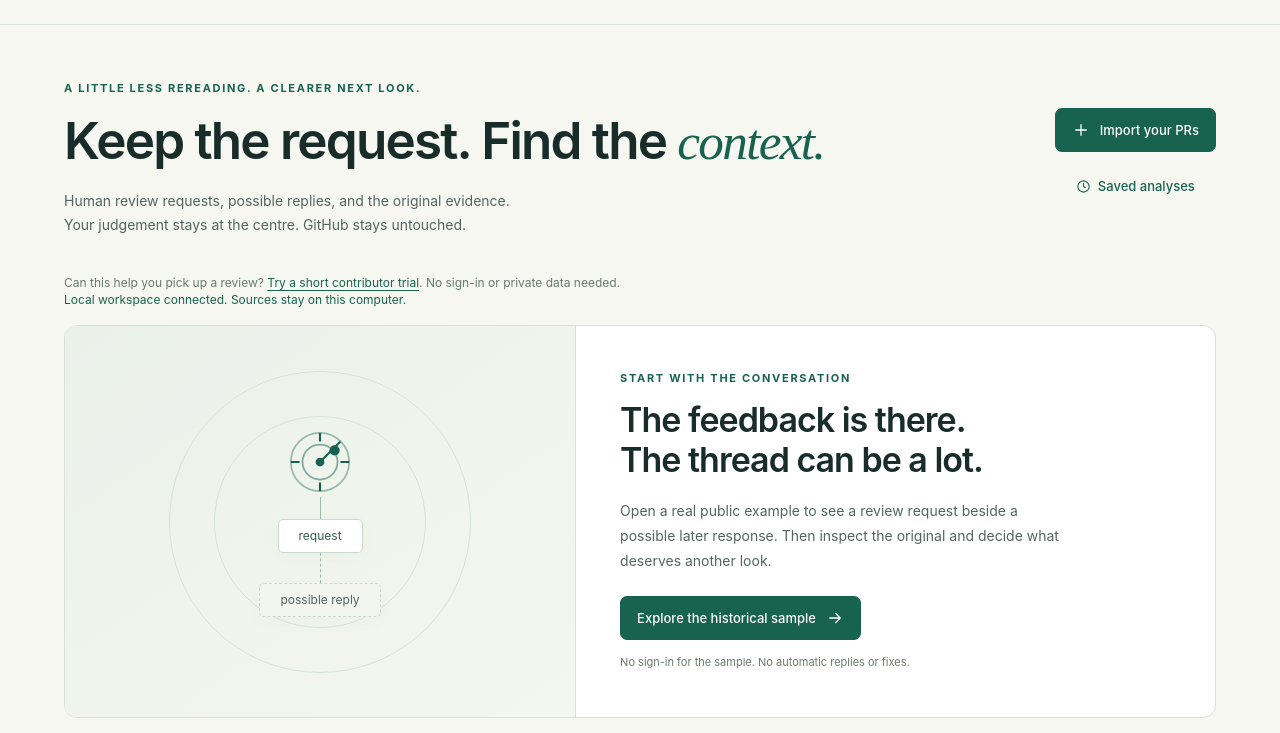
it: evidence workbench integration (DOM simulation, not a visual browser audit) › retains typed notes and shows an honest save failure
Click the button "Explore the historical sample": (740, 618) [620,596,861,640]
(page scrolled)
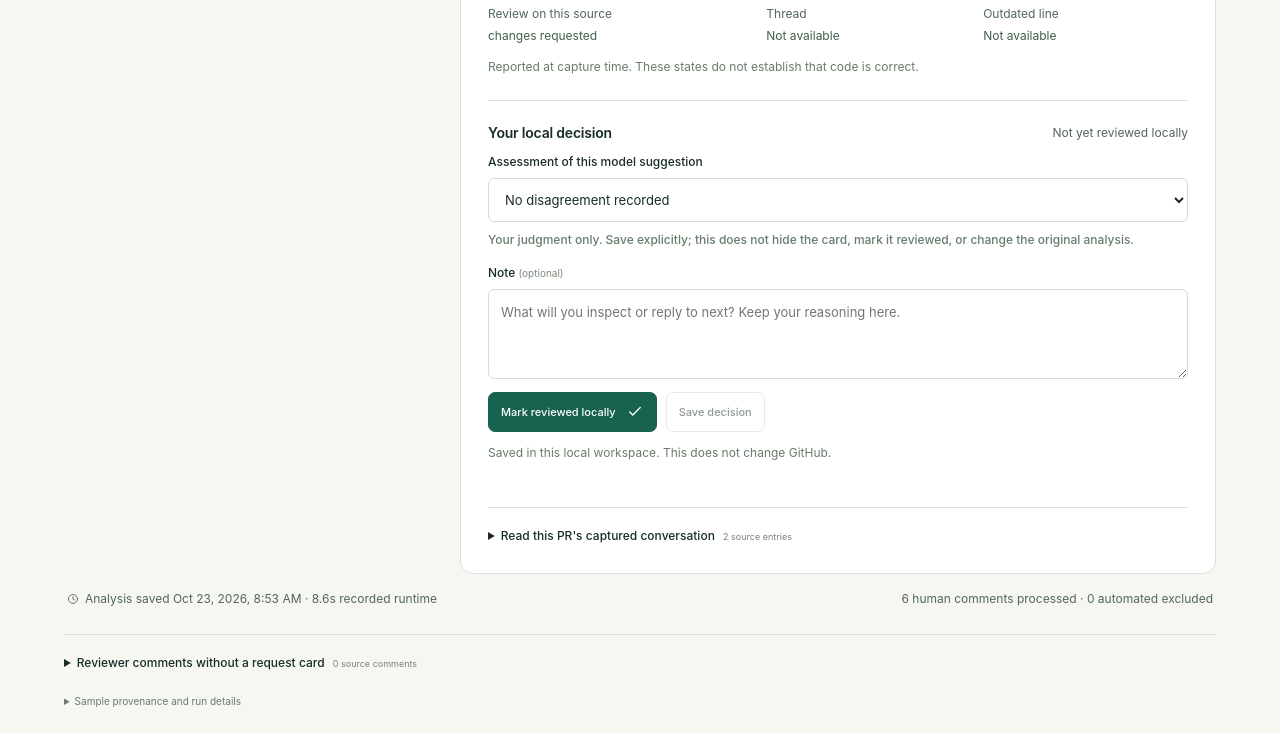
Result: the button "Mark reviewed locally" is shown at [488,392,657,432]
In the text box labelled "Note (optional)": (838, 334) [488,289,1188,379], type "Keep this note"
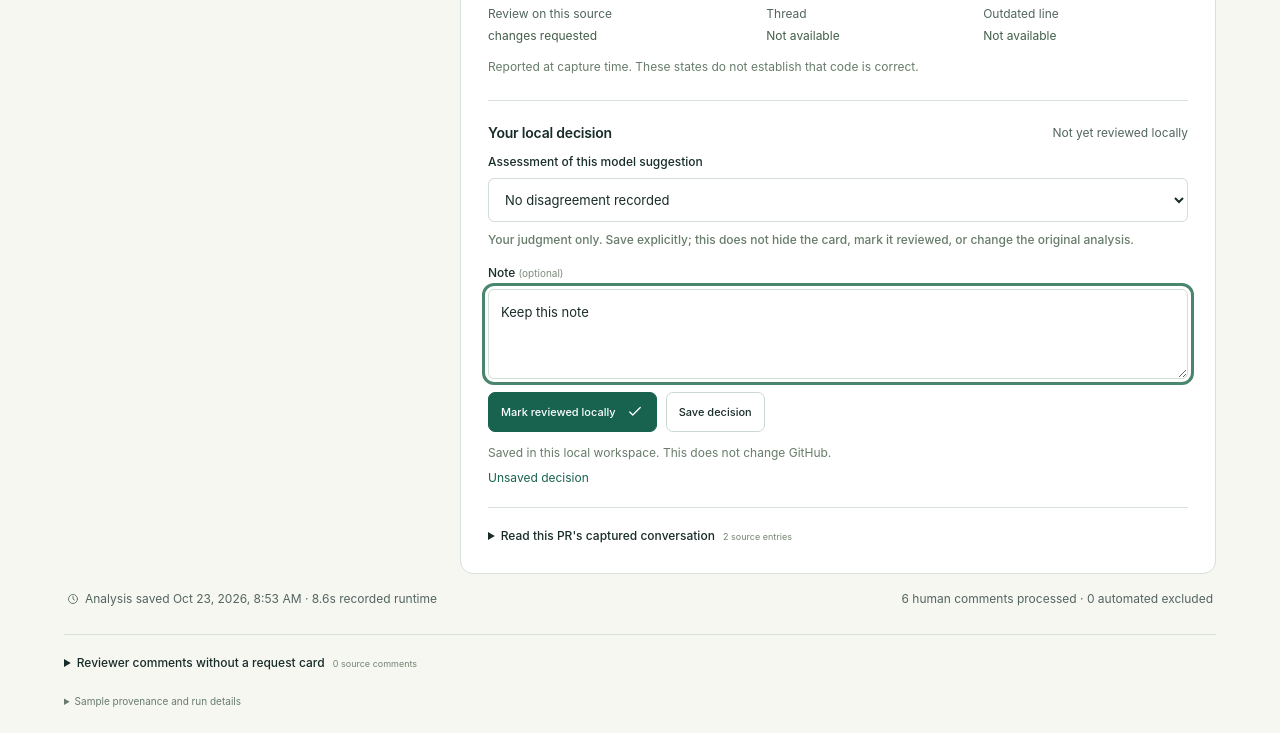
Click the button "Save decision": (715, 412) [666,392,765,432]
(page scrolled)
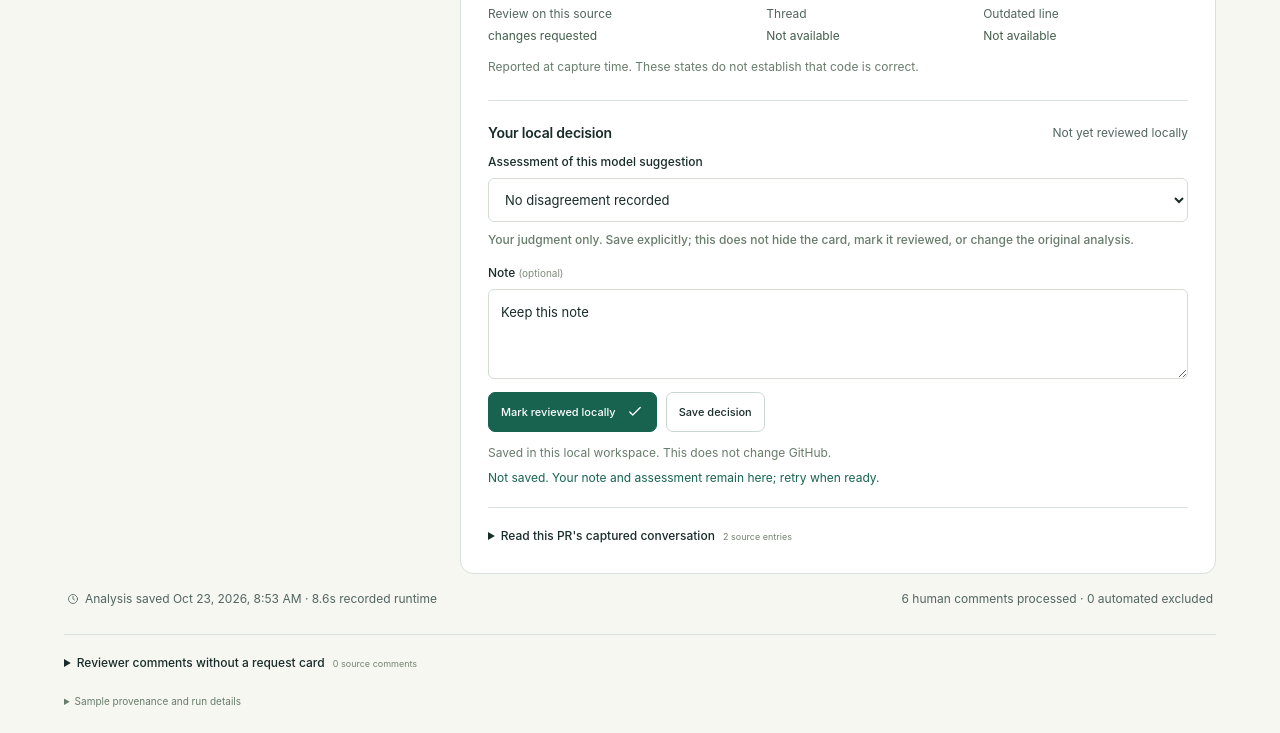
Result: the button "Mark reviewed locally" is shown at [488,392,657,432]
Result: the text "Not saved. Your note and assessment remain here; retry when ready." is shown at [488,470,880,485]
